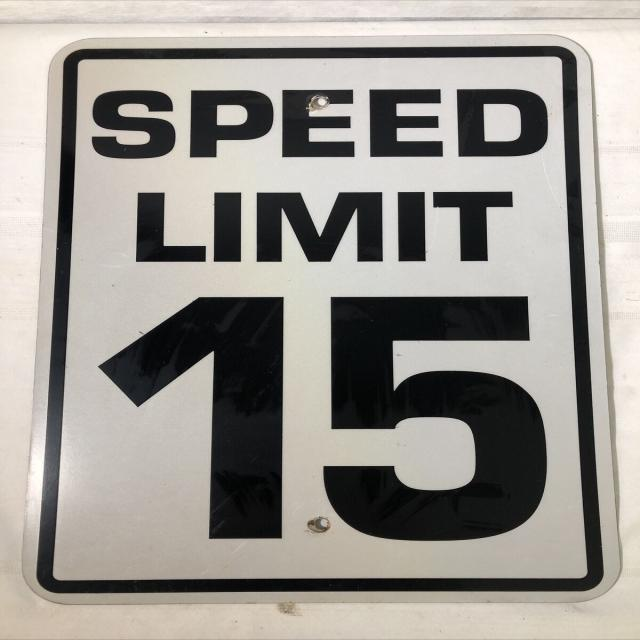speedLimit15: (23, 40, 622, 600)
